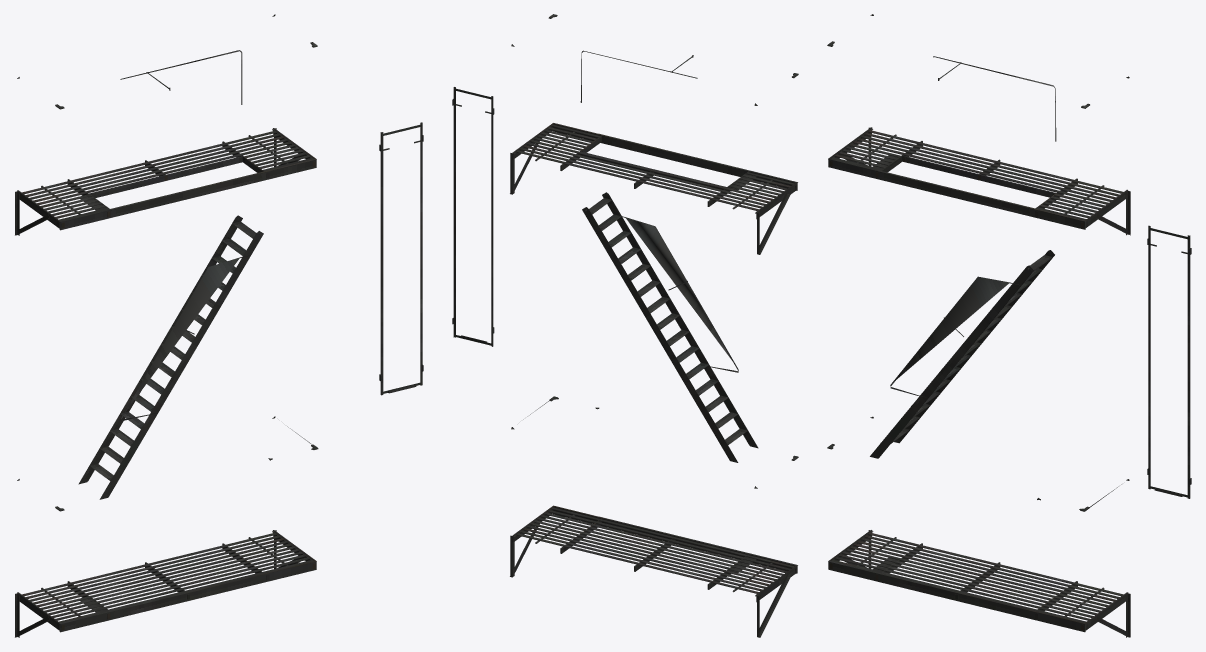
File: modular_fire_escape.glb
3 renders of one model, left to right at view 1: azimuth 30°, elevation 25°; view 2: azimuth 150°, elevation 25°; view 3: azimuth 330°, elevation 25°, orthographic. The views are drawn at different scales.
Parts seen in each view (by area): view 1: modular_fire_escape_platform_bottom, modular_fire_escape_platform_middle, modular_fire_escape_stairs, modular_fire_escape_ladder_bottom; view 2: modular_fire_escape_platform_bottom, modular_fire_escape_platform_middle, modular_fire_escape_stairs, modular_fire_escape_ladder_bottom; view 3: modular_fire_escape_platform_bottom, modular_fire_escape_platform_middle, modular_fire_escape_stairs, modular_fire_escape_ladder_bottom.
Boxes of the visible parts, x1,y1,x2,y2 form: modular_fire_escape_platform_bottom: [15, 530, 316, 637]; modular_fire_escape_platform_middle: [15, 128, 316, 235]; modular_fire_escape_stairs: [78, 215, 263, 499]; modular_fire_escape_ladder_bottom: [379, 122, 423, 395]; modular_fire_escape_platform_bottom: [510, 505, 797, 637]; modular_fire_escape_platform_middle: [510, 123, 797, 254]; modular_fire_escape_stairs: [582, 192, 758, 462]; modular_fire_escape_ladder_bottom: [452, 87, 494, 346]; modular_fire_escape_platform_bottom: [828, 530, 1130, 637]; modular_fire_escape_platform_middle: [828, 127, 1130, 235]; modular_fire_escape_stairs: [870, 250, 1054, 458]; modular_fire_escape_ladder_bottom: [1147, 225, 1191, 498].
Size of the model in its own units: 6.66 by 9.76 by 1.42.
2 materials, 2 textured.
